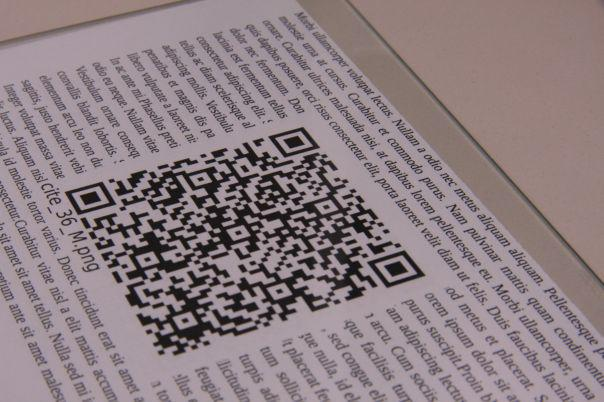Finder pattern: (366, 250, 428, 287), (64, 181, 119, 216), (272, 126, 319, 157)
